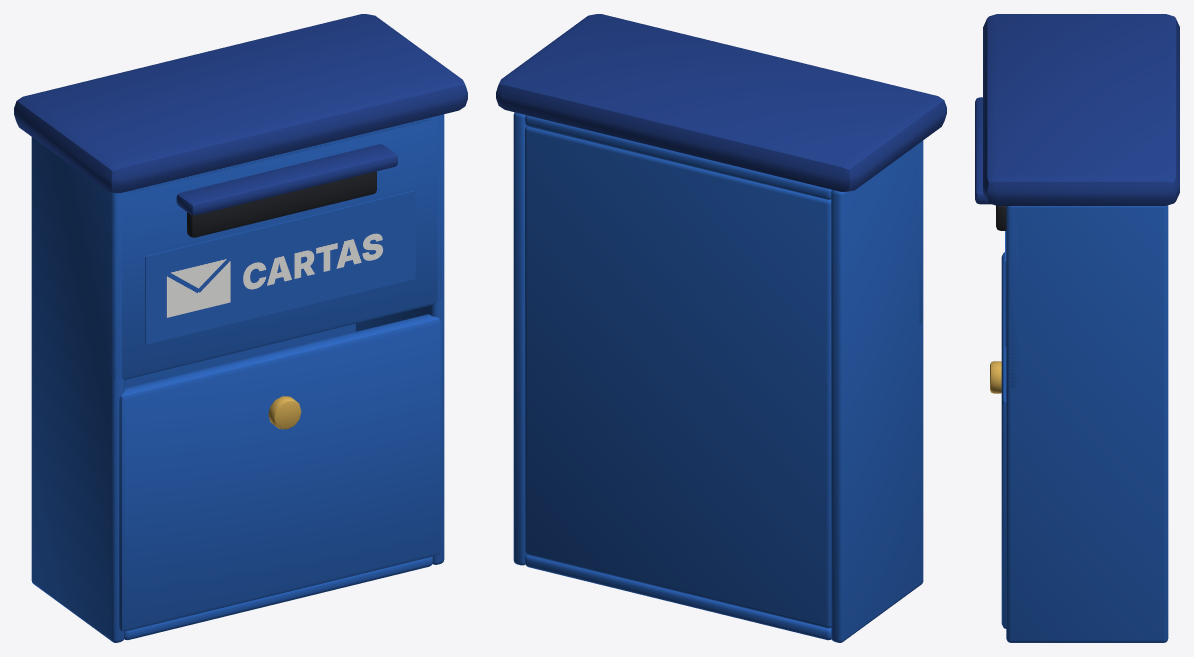
File: caixa_correio_parede.glb
The picture shows the model from 3 angles, left to right: view 1: azimuth 30°, elevation 25°; view 2: azimuth 150°, elevation 25°; view 3: azimuth 270°, elevation 25°; orthographic projection. The views are drawn at different scales.
Visible parts, largest first — view 1: caixa_correio_parede, tampa; view 2: caixa_correio_parede; view 3: caixa_correio_parede, tampa.
Part boxes in pixels (left/top/right/bottom): caixa_correio_parede: left=14, top=14, right=467, bottom=642; tampa: left=119, top=314, right=440, bottom=631; caixa_correio_parede: left=496, top=14, right=946, bottom=642; caixa_correio_parede: left=975, top=14, right=1179, bottom=642; tampa: left=990, top=252, right=1006, bottom=628.
Size of the model in its own units: 0.35 by 0.45 by 0.177.
2 materials, 2 textured.
